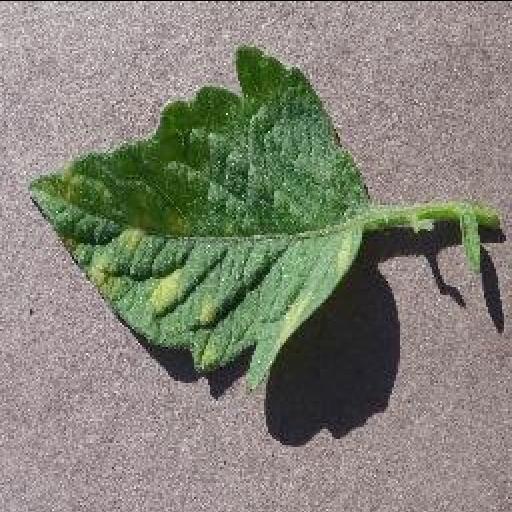disease_tomato: (25, 44, 371, 394)
